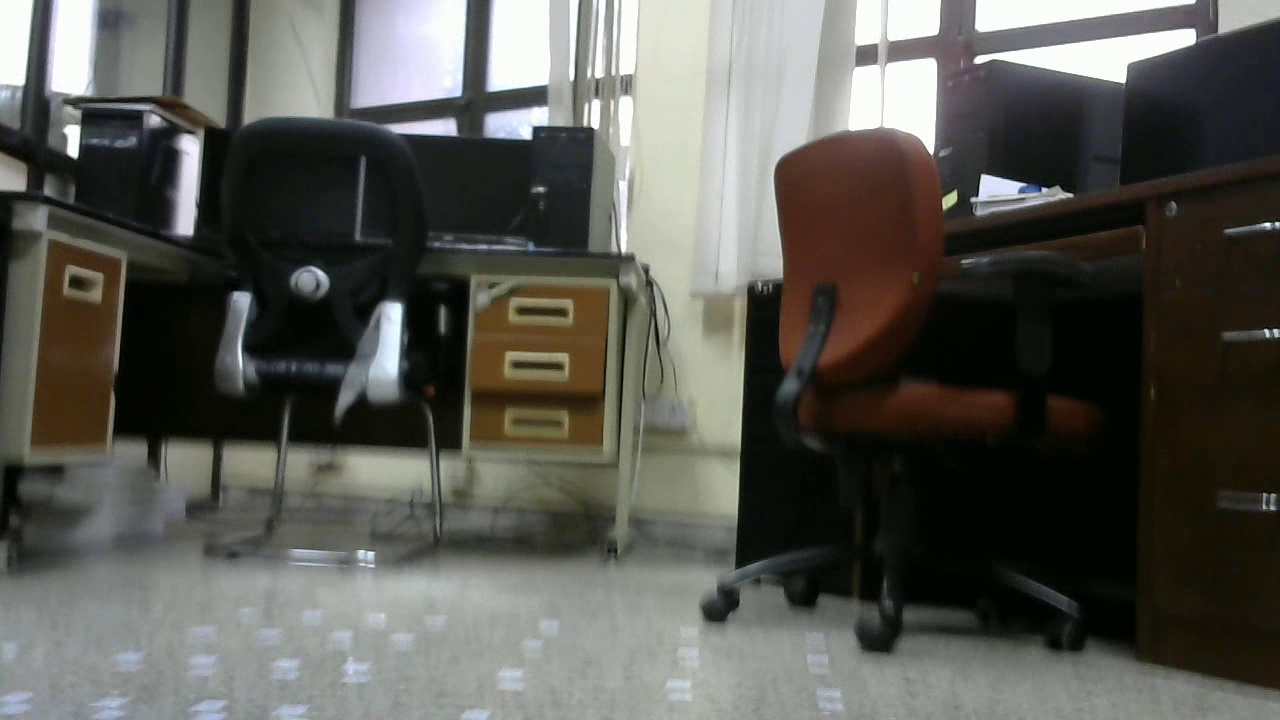chair: (694, 124, 1092, 648), (208, 114, 451, 570)
